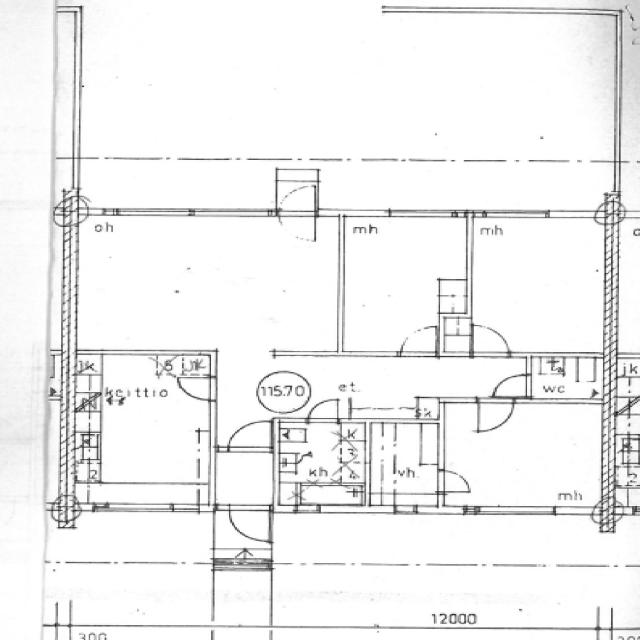door: (440, 397, 604, 511), (276, 181, 321, 247), (221, 502, 274, 547), (224, 418, 273, 452), (472, 398, 516, 434), (468, 322, 510, 358), (397, 323, 440, 357), (173, 373, 217, 403), (433, 467, 475, 495), (490, 373, 532, 399), (306, 396, 341, 426)
window: (88, 498, 203, 517), (482, 208, 599, 222), (183, 204, 273, 221), (100, 204, 200, 218), (383, 206, 463, 221)
zone: (65, 213, 342, 354), (64, 354, 212, 509), (466, 212, 614, 356), (440, 398, 607, 514), (338, 213, 467, 356), (367, 419, 439, 508), (275, 421, 364, 489), (526, 355, 610, 402), (474, 593, 528, 624)
